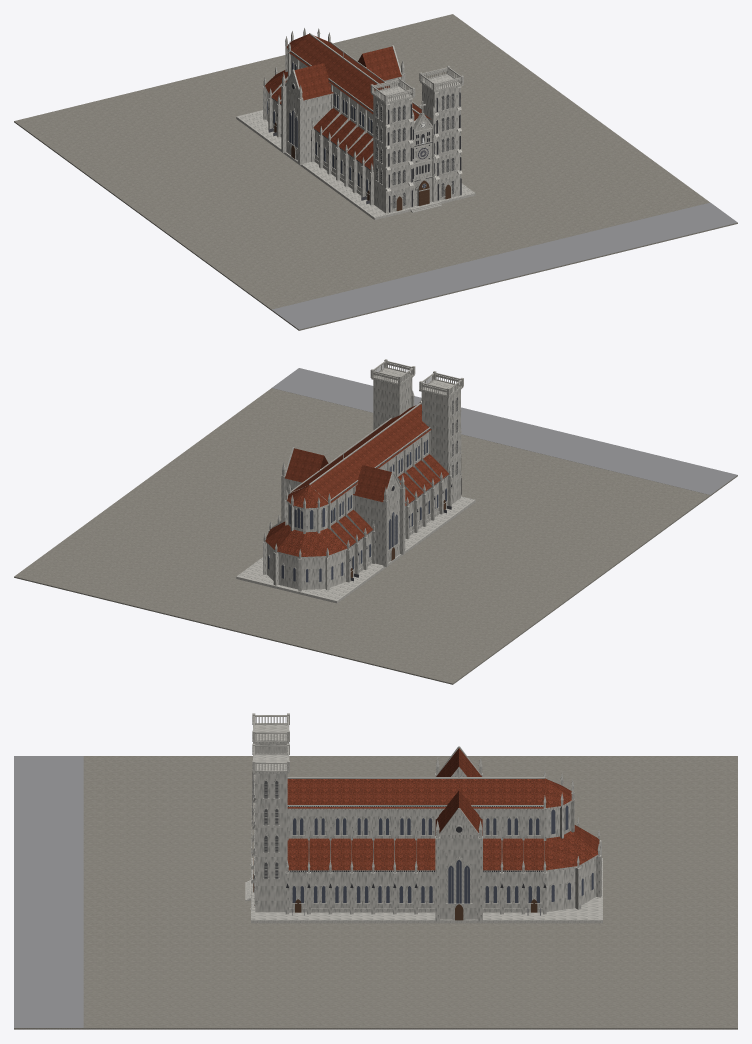
Rendered from nha_tho_lon.glb.
3 views of the same model, one above another, from view 1: azimuth 30°, elevation 25°; view 2: azimuth 150°, elevation 25°; view 3: azimuth 270°, elevation 25° (orthographic). The views are drawn at different scales.
Visible parts, largest first — view 1: NhaThoLon_San, NhaThoLon_NhaTho; view 2: NhaThoLon_San, NhaThoLon_NhaTho; view 3: NhaThoLon_San, NhaThoLon_NhaTho.
Part boxes in pixels (<box>): NhaThoLon_San: <box>14,14,737,330</box>; NhaThoLon_NhaTho: <box>236,28,475,219</box>; NhaThoLon_San: <box>14,368,737,684</box>; NhaThoLon_NhaTho: <box>236,359,475,603</box>; NhaThoLon_San: <box>14,756,737,1029</box>; NhaThoLon_NhaTho: <box>245,713,602,923</box>.
Size of the model in its own units: 120 by 32.05 by 135.
Materials: 13 (4 with a texture image).
